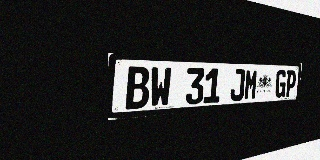1: (203, 68, 221, 103)
3: (185, 68, 205, 105)
B: (125, 66, 150, 110)
G: (274, 70, 287, 98)
J: (230, 69, 245, 101)
M: (244, 69, 258, 100)
P: (285, 70, 297, 97)
W: (150, 67, 172, 108)
